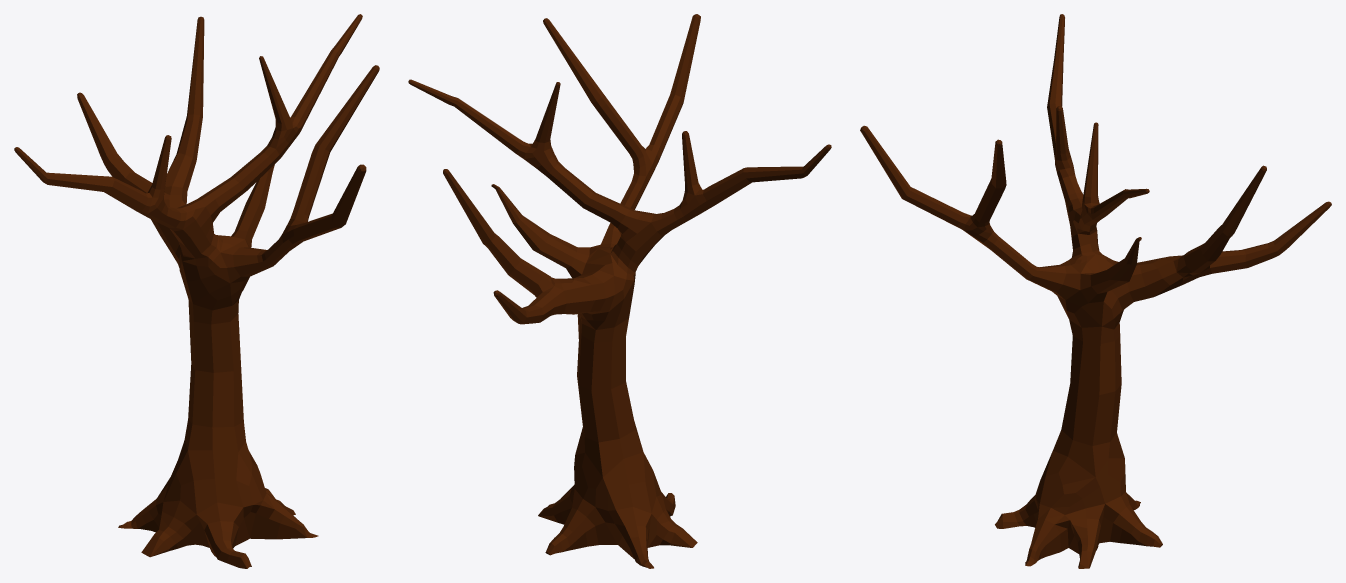
Rendered from oakTree_leafless.fbx.
3 views of the same model, side by side, from view 1: azimuth 30°, elevation 25°; view 2: azimuth 150°, elevation 25°; view 3: azimuth 270°, elevation 25° (orthographic). The views are drawn at different scales.
Visible parts, largest first — view 1: oakTree; view 2: oakTree; view 3: oakTree.
Part boxes in pixels (x1=…): oakTree: x1=14, y1=14, x2=379, y2=568; oakTree: x1=408, y1=14, x2=831, y2=568; oakTree: x1=860, y1=14, x2=1331, y2=568.
Size of the model in its own units: 667 by 763 by 731.
